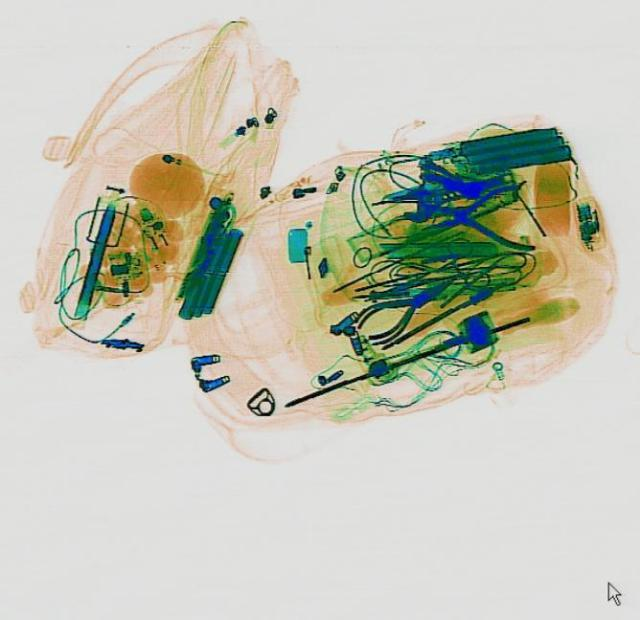Pliers: (346, 263, 464, 349), (415, 180, 535, 256)
Wrench: (396, 162, 518, 224)
